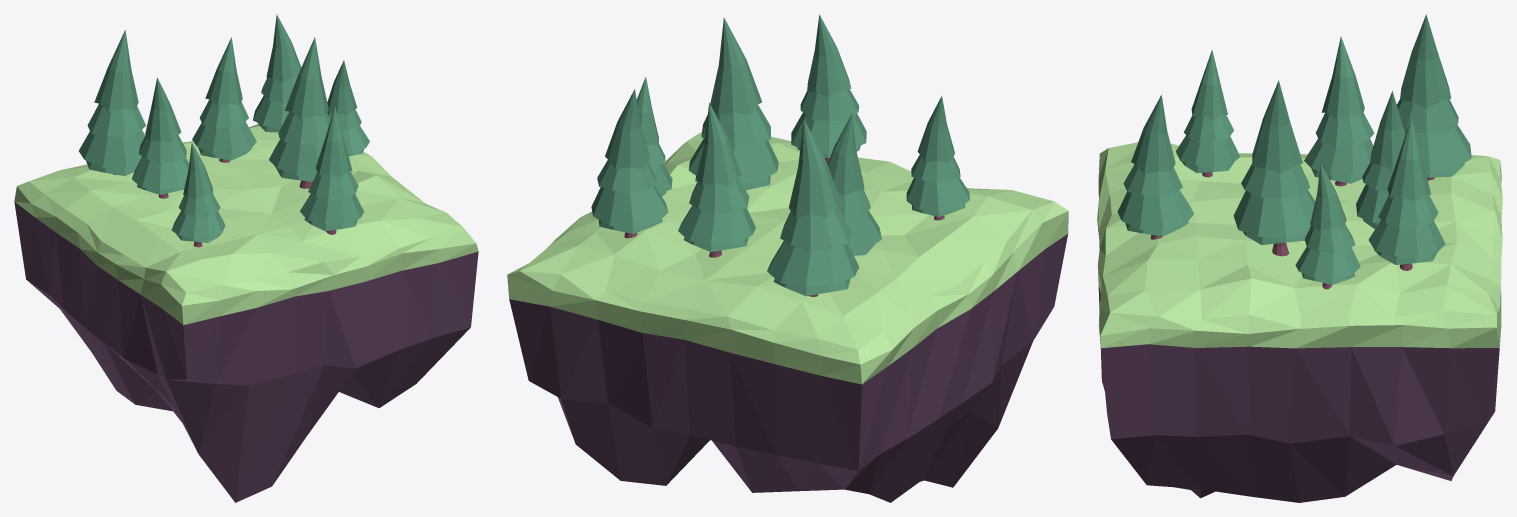
File: treebiome5.glb
The picture shows the model from 3 angles, left to right: view 1: azimuth 30°, elevation 25°; view 2: azimuth 150°, elevation 25°; view 3: azimuth 270°, elevation 25°; orthographic projection. The views are drawn at different scales.
Visible parts, largest first — view 1: Plane, Cylinder.002, Cylinder.001, Cylinder.007, Cylinder.003, Cylinder.005, Cylinder.004, Cylinder, Cylinder.006; view 2: Plane, Cylinder.002, Cylinder.001, Cylinder.003, Cylinder, Cylinder.007, Cylinder.004, Cylinder.005, Cylinder.006; view 3: Plane, Cylinder.001, Cylinder.002, Cylinder, Cylinder.007, Cylinder.005, Cylinder.006, Cylinder.004, Cylinder.003.
Boxes of the visible parts, x1=… form: Plane: x1=14, y1=124, x2=478, y2=502; Cylinder.002: x1=79, y1=30, x2=146, y2=175; Cylinder.001: x1=269, y1=37, x2=330, y2=188; Cylinder.007: x1=300, y1=107, x2=364, y2=234; Cylinder.003: x1=192, y1=37, x2=256, y2=162; Cylinder.005: x1=132, y1=77, x2=189, y2=198; Cylinder.004: x1=171, y1=142, x2=225, y2=247; Cylinder: x1=253, y1=14, x2=301, y2=138; Cylinder.006: x1=327, y1=60, x2=369, y2=156; Plane: x1=507, y1=132, x2=1068, y2=502; Cylinder.002: x1=767, y1=119, x2=859, y2=296; Cylinder.001: x1=688, y1=18, x2=778, y2=190; Cylinder.003: x1=678, y1=103, x2=755, y2=257; Cylinder: x1=591, y1=89, x2=668, y2=238; Cylinder.007: x1=791, y1=14, x2=866, y2=163; Cylinder.004: x1=906, y1=96, x2=969, y2=220; Cylinder.005: x1=827, y1=113, x2=881, y2=255; Cylinder.006: x1=636, y1=77, x2=672, y2=196; Plane: x1=1097, y1=142, x2=1502, y2=502; Cylinder.001: x1=1233, y1=80, x2=1315, y2=256; Cylinder.002: x1=1397, y1=14, x2=1471, y2=180; Cylinder: x1=1368, y1=117, x2=1445, y2=270; Cylinder.007: x1=1117, y1=95, x2=1193, y2=239; Cylinder.005: x1=1304, y1=36, x2=1374, y2=186; Cylinder.006: x1=1295, y1=163, x2=1360, y2=289; Cylinder.004: x1=1176, y1=49, x2=1239, y2=177; Cylinder.003: x1=1356, y1=91, x2=1405, y2=228.
Size of the model in its own units: 10.32 by 12.94 by 10.14.
